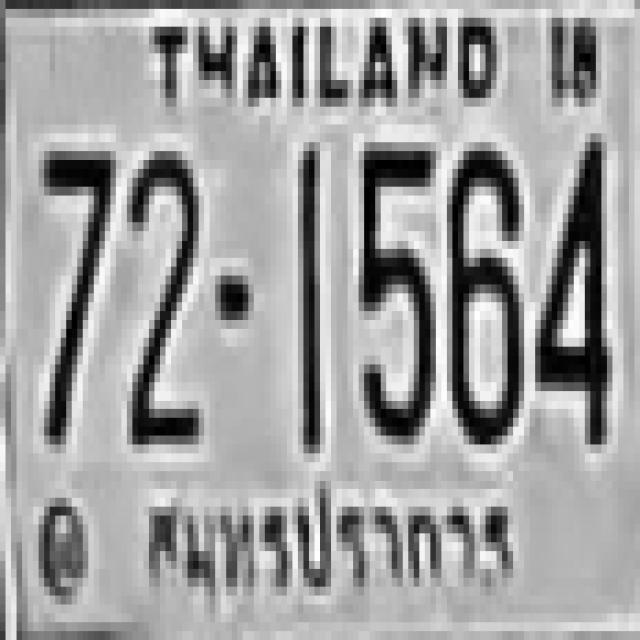1: (292, 147, 320, 449)
2: (124, 147, 196, 440)
4: (533, 129, 604, 440)
5: (353, 134, 430, 436)
6: (447, 138, 519, 440)
7: (39, 147, 110, 440), (39, 142, 110, 391)
SamutPrakan: (134, 482, 527, 612)
